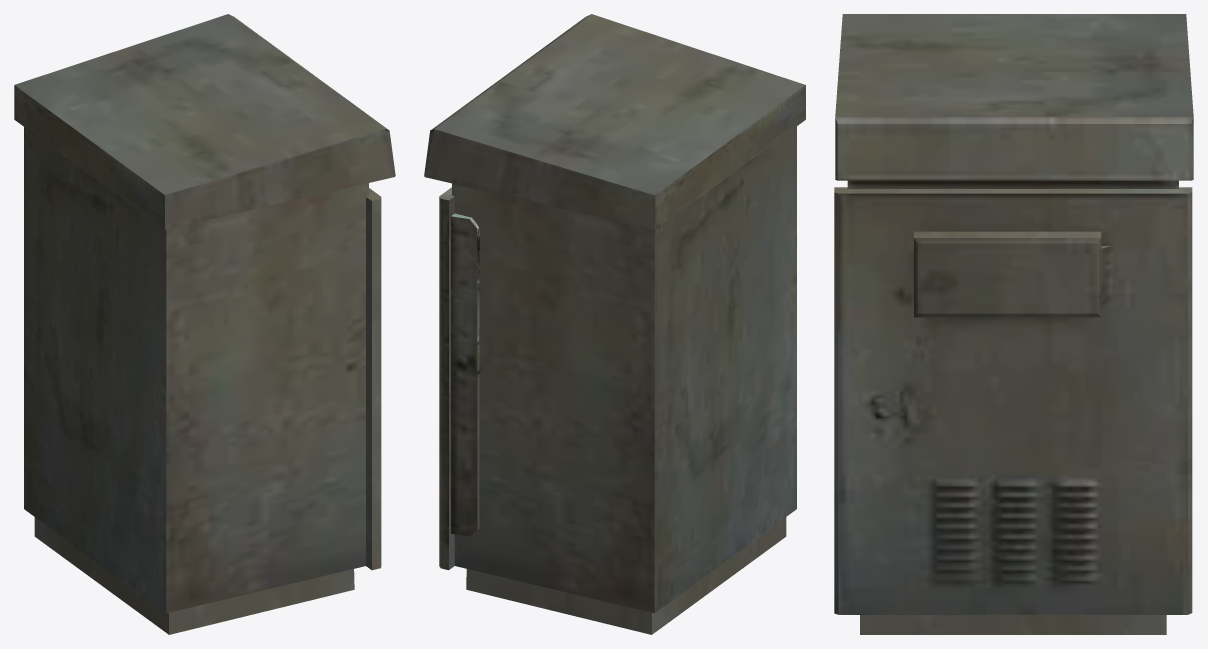
Rendered from powerbox01a.glb.
The picture shows the model from 3 angles, left to right: view 1: azimuth 30°, elevation 25°; view 2: azimuth 150°, elevation 25°; view 3: azimuth 270°, elevation 25°; orthographic projection. The views are drawn at different scales.
Parts seen in each view (by area): view 1: 0_powerbox001; view 2: 0_powerbox001; view 3: 0_powerbox001.
Part boxes in pixels (box(x1,y1,x2,y2)): 0_powerbox001: box(14, 14, 395, 634); 0_powerbox001: box(424, 14, 805, 634); 0_powerbox001: box(834, 14, 1193, 634).
Size of the model in its own units: 0.6575 by 1.28 by 0.7856.
1 material, 1 textured.
